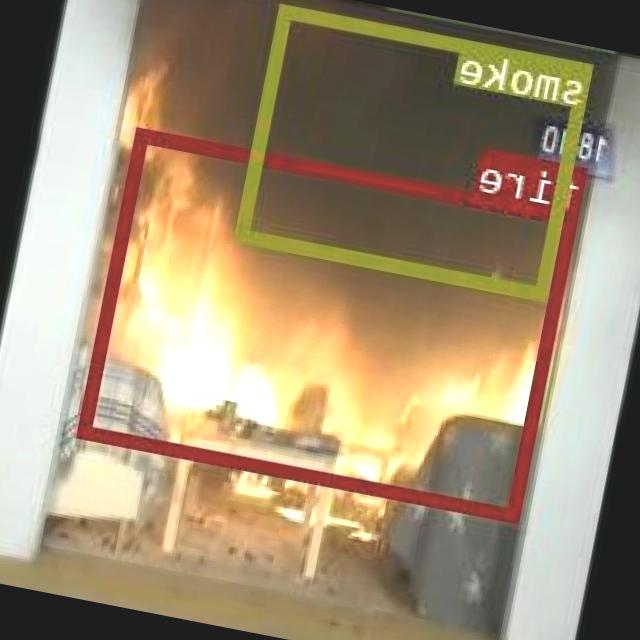fire: (80, 127, 580, 520)
smoke: (239, 4, 595, 299)
